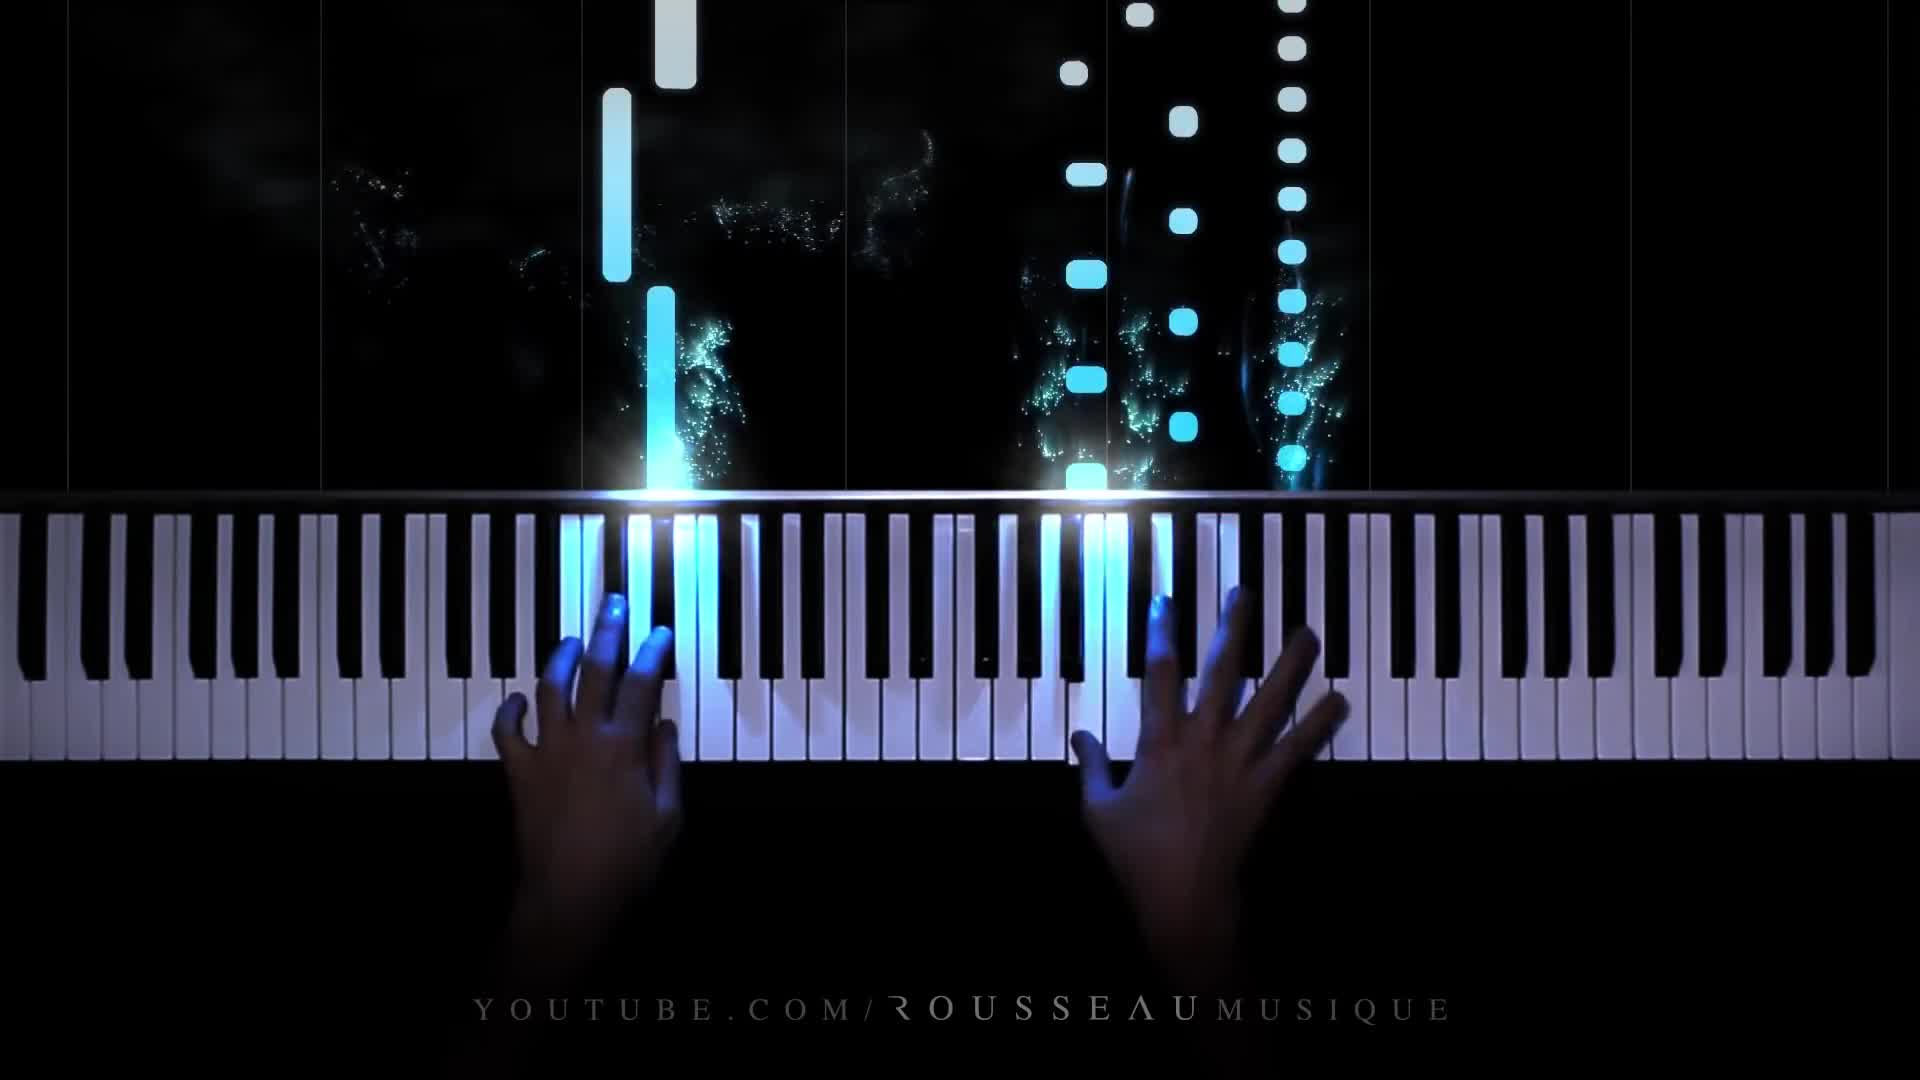left: (491, 589, 687, 870)
right: (1069, 584, 1352, 873)
